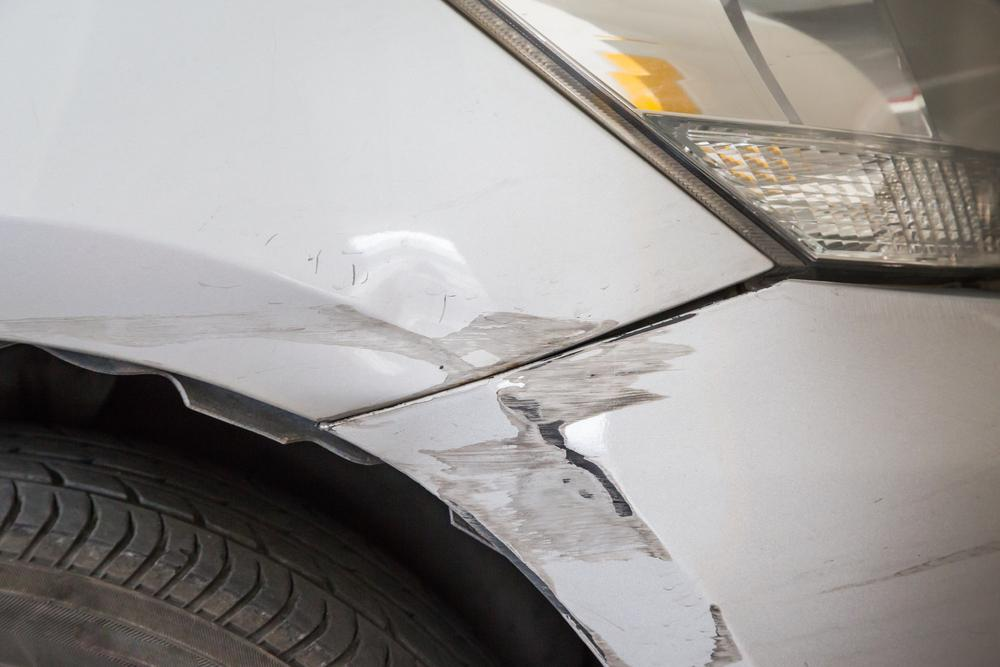dent: (346, 266, 463, 367)
scratch: (424, 310, 741, 667), (433, 310, 624, 392)
